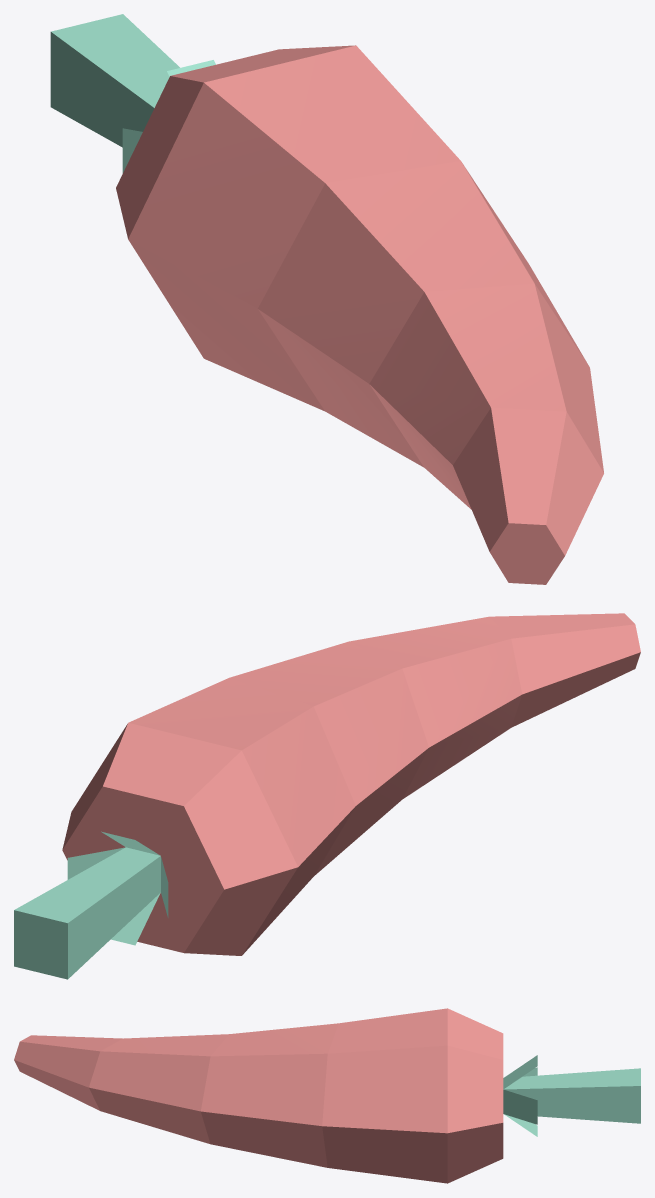
3 views of the same model, one above another, from view 1: azimuth 30°, elevation 25°; view 2: azimuth 150°, elevation 25°; view 3: azimuth 270°, elevation 25° (orthographic). The views are drawn at different scales.
Visible parts, largest first — view 1: pepper; view 2: pepper; view 3: pepper.
Part boxes in pixels (x1=…): pepper: x1=50, y1=14, x2=603, y2=584; pepper: x1=14, y1=613, x2=640, y2=979; pepper: x1=14, y1=1008, x2=640, y2=1183.
Bounding box in the file's own units: 0.1039 × 0.0775 × 0.3191.
